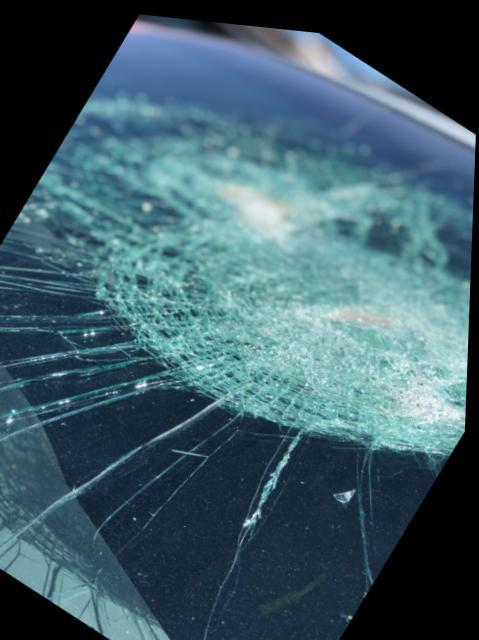glass shatter: (0, 14, 476, 640)
